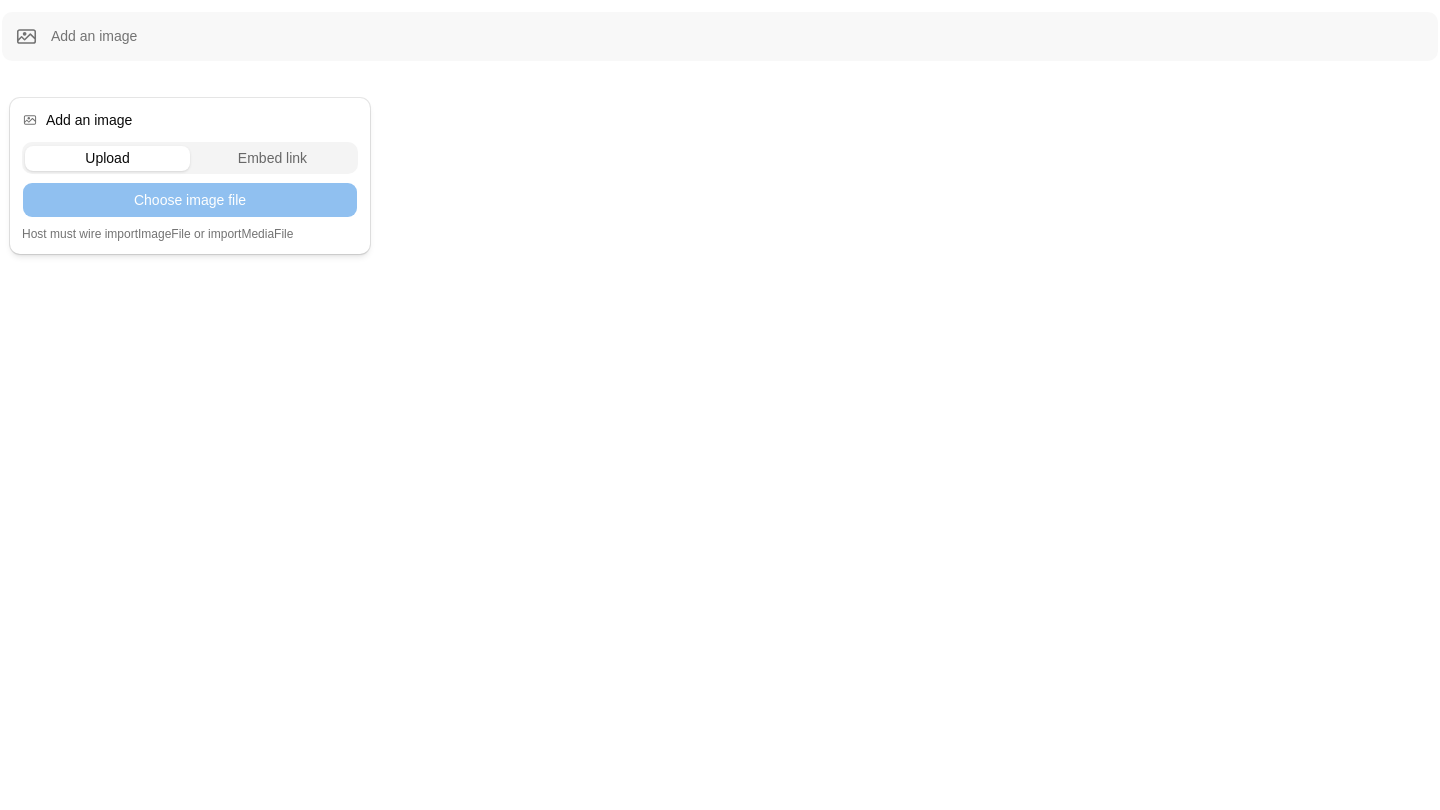
Test: ImageEmptyPopover › rejects empty and blocked-syntax URLs without mutating doc
Expected: the tab "Upload" is shown, [25,146,190,170]
Press the mouse on the tab "Embed link" at point(272, 158), box [190,146,355,170]
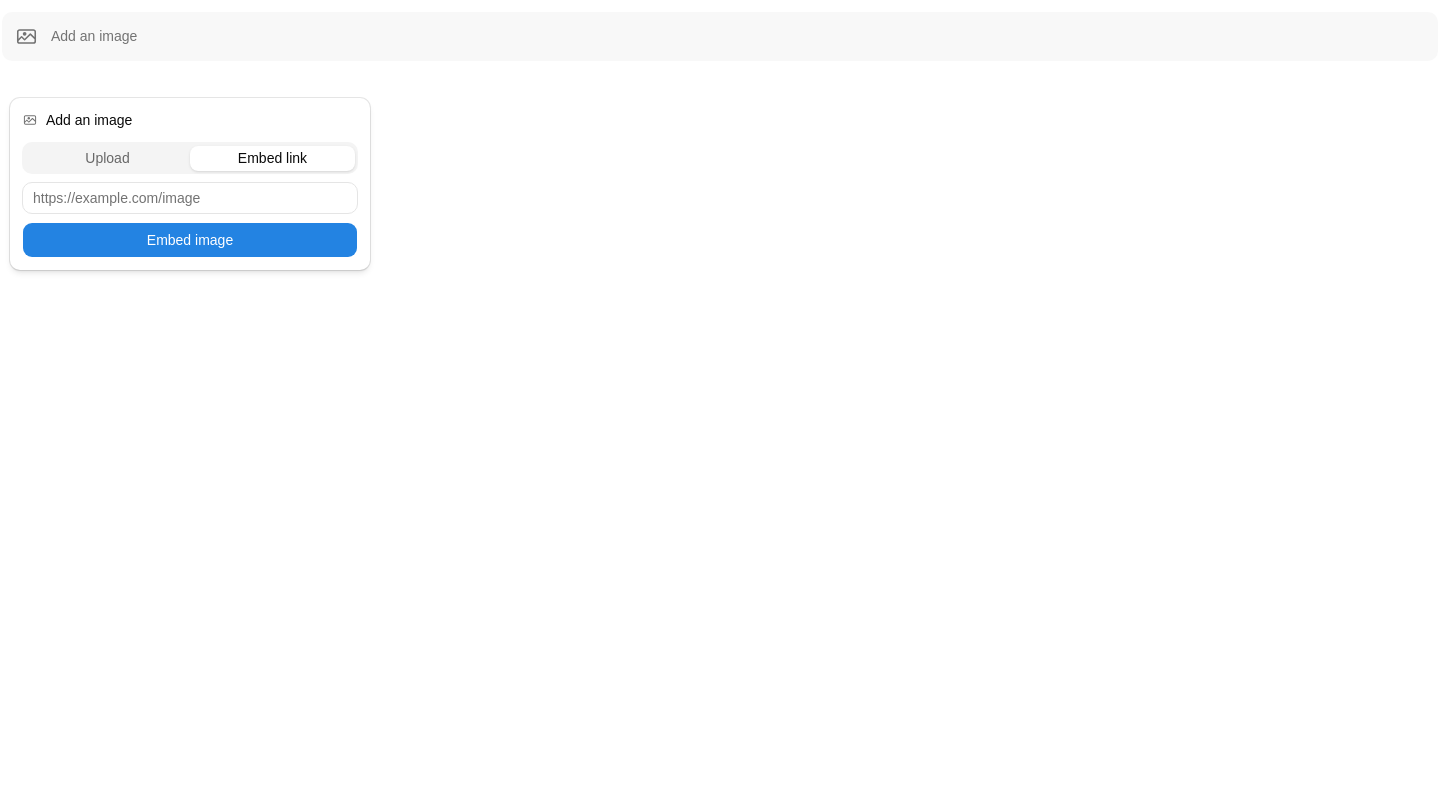
Click the button "Embed image".
click(190, 240)  # box [22,222,358,258]
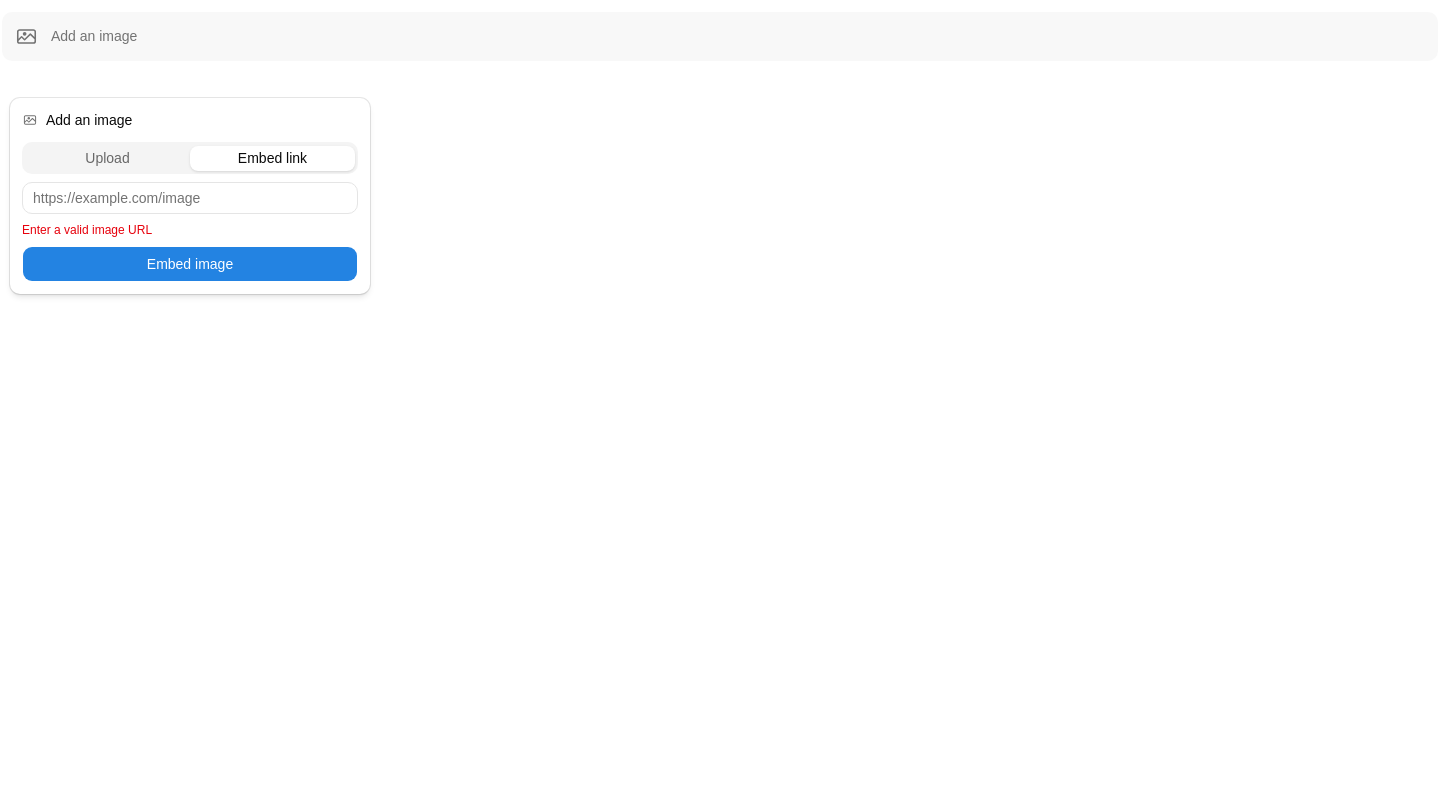
Expected: the text "Enter a valid image URL" is shown, [22,223,152,237]
Type "https://example.com/<bad>" into the field named "Image URL".
click(190, 198); type("https://example.com/<bad>")  # box [22,182,358,214]
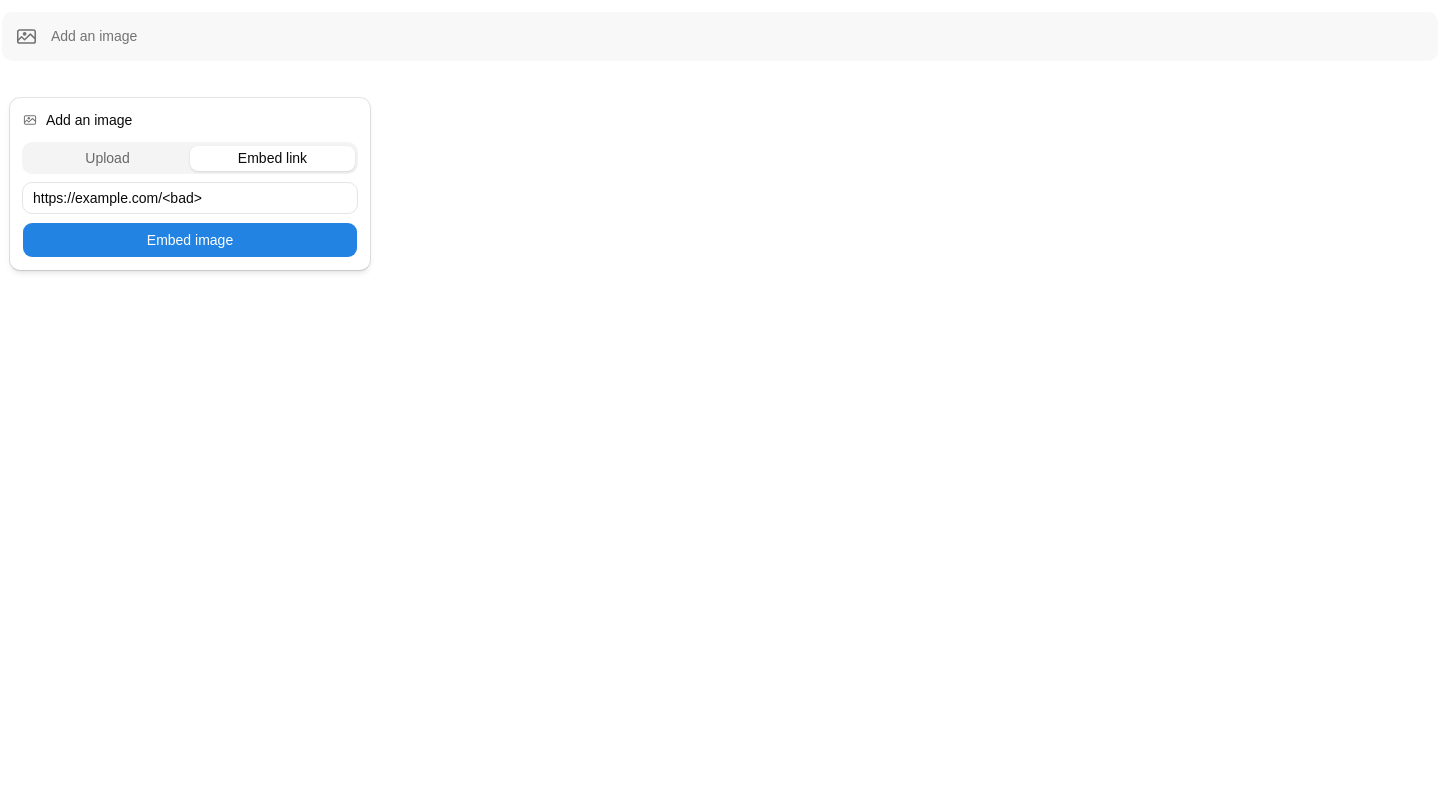
Click the button "Embed image".
click(190, 240)  # box [22,222,358,258]
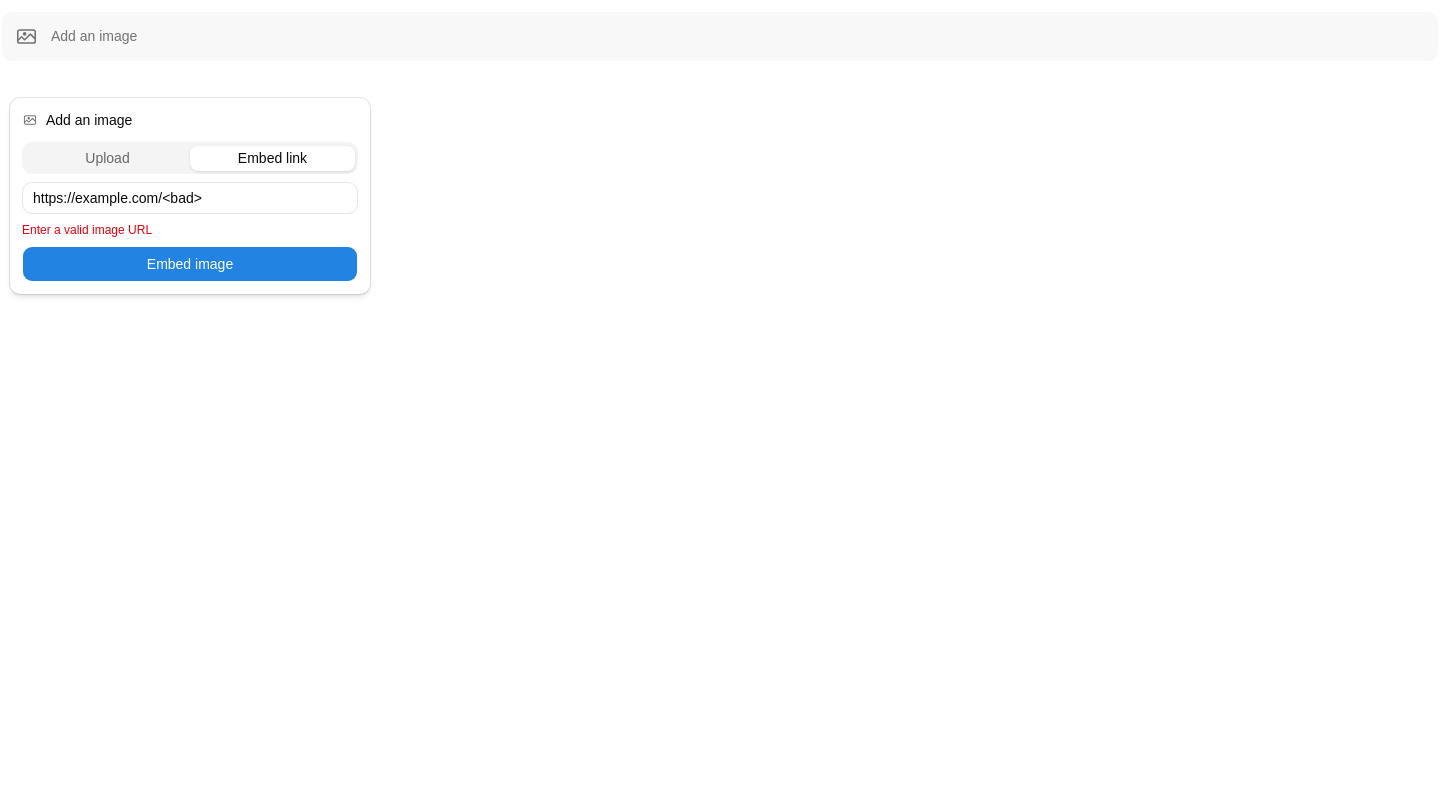
Expected: the text "Enter a valid image URL" is shown, [22,223,152,237]
